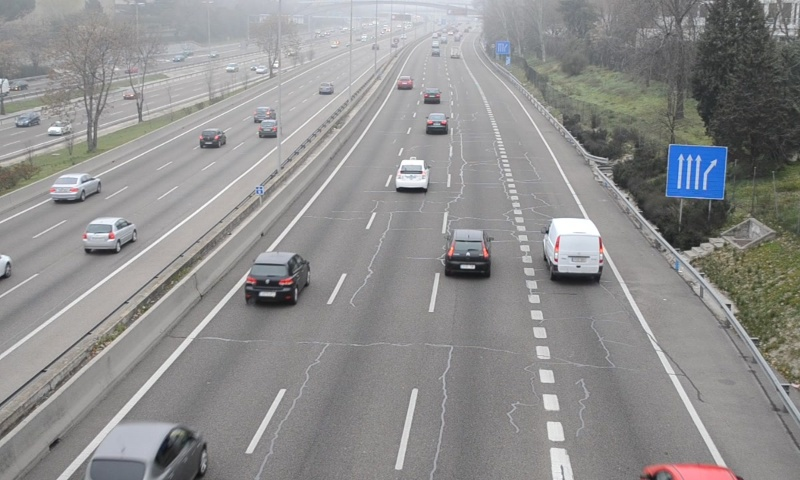car: (82, 422, 206, 480), (244, 252, 310, 304), (446, 230, 490, 274), (394, 158, 429, 190), (424, 112, 449, 134), (422, 86, 441, 104), (396, 76, 413, 89)
van: (542, 217, 602, 278)
